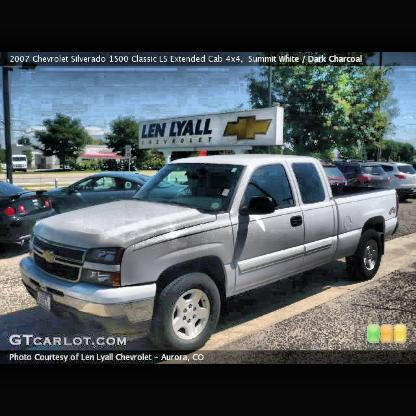Chevrolet Silverado 1500 Classic Extended Cab 2007: (19, 152, 404, 358)
